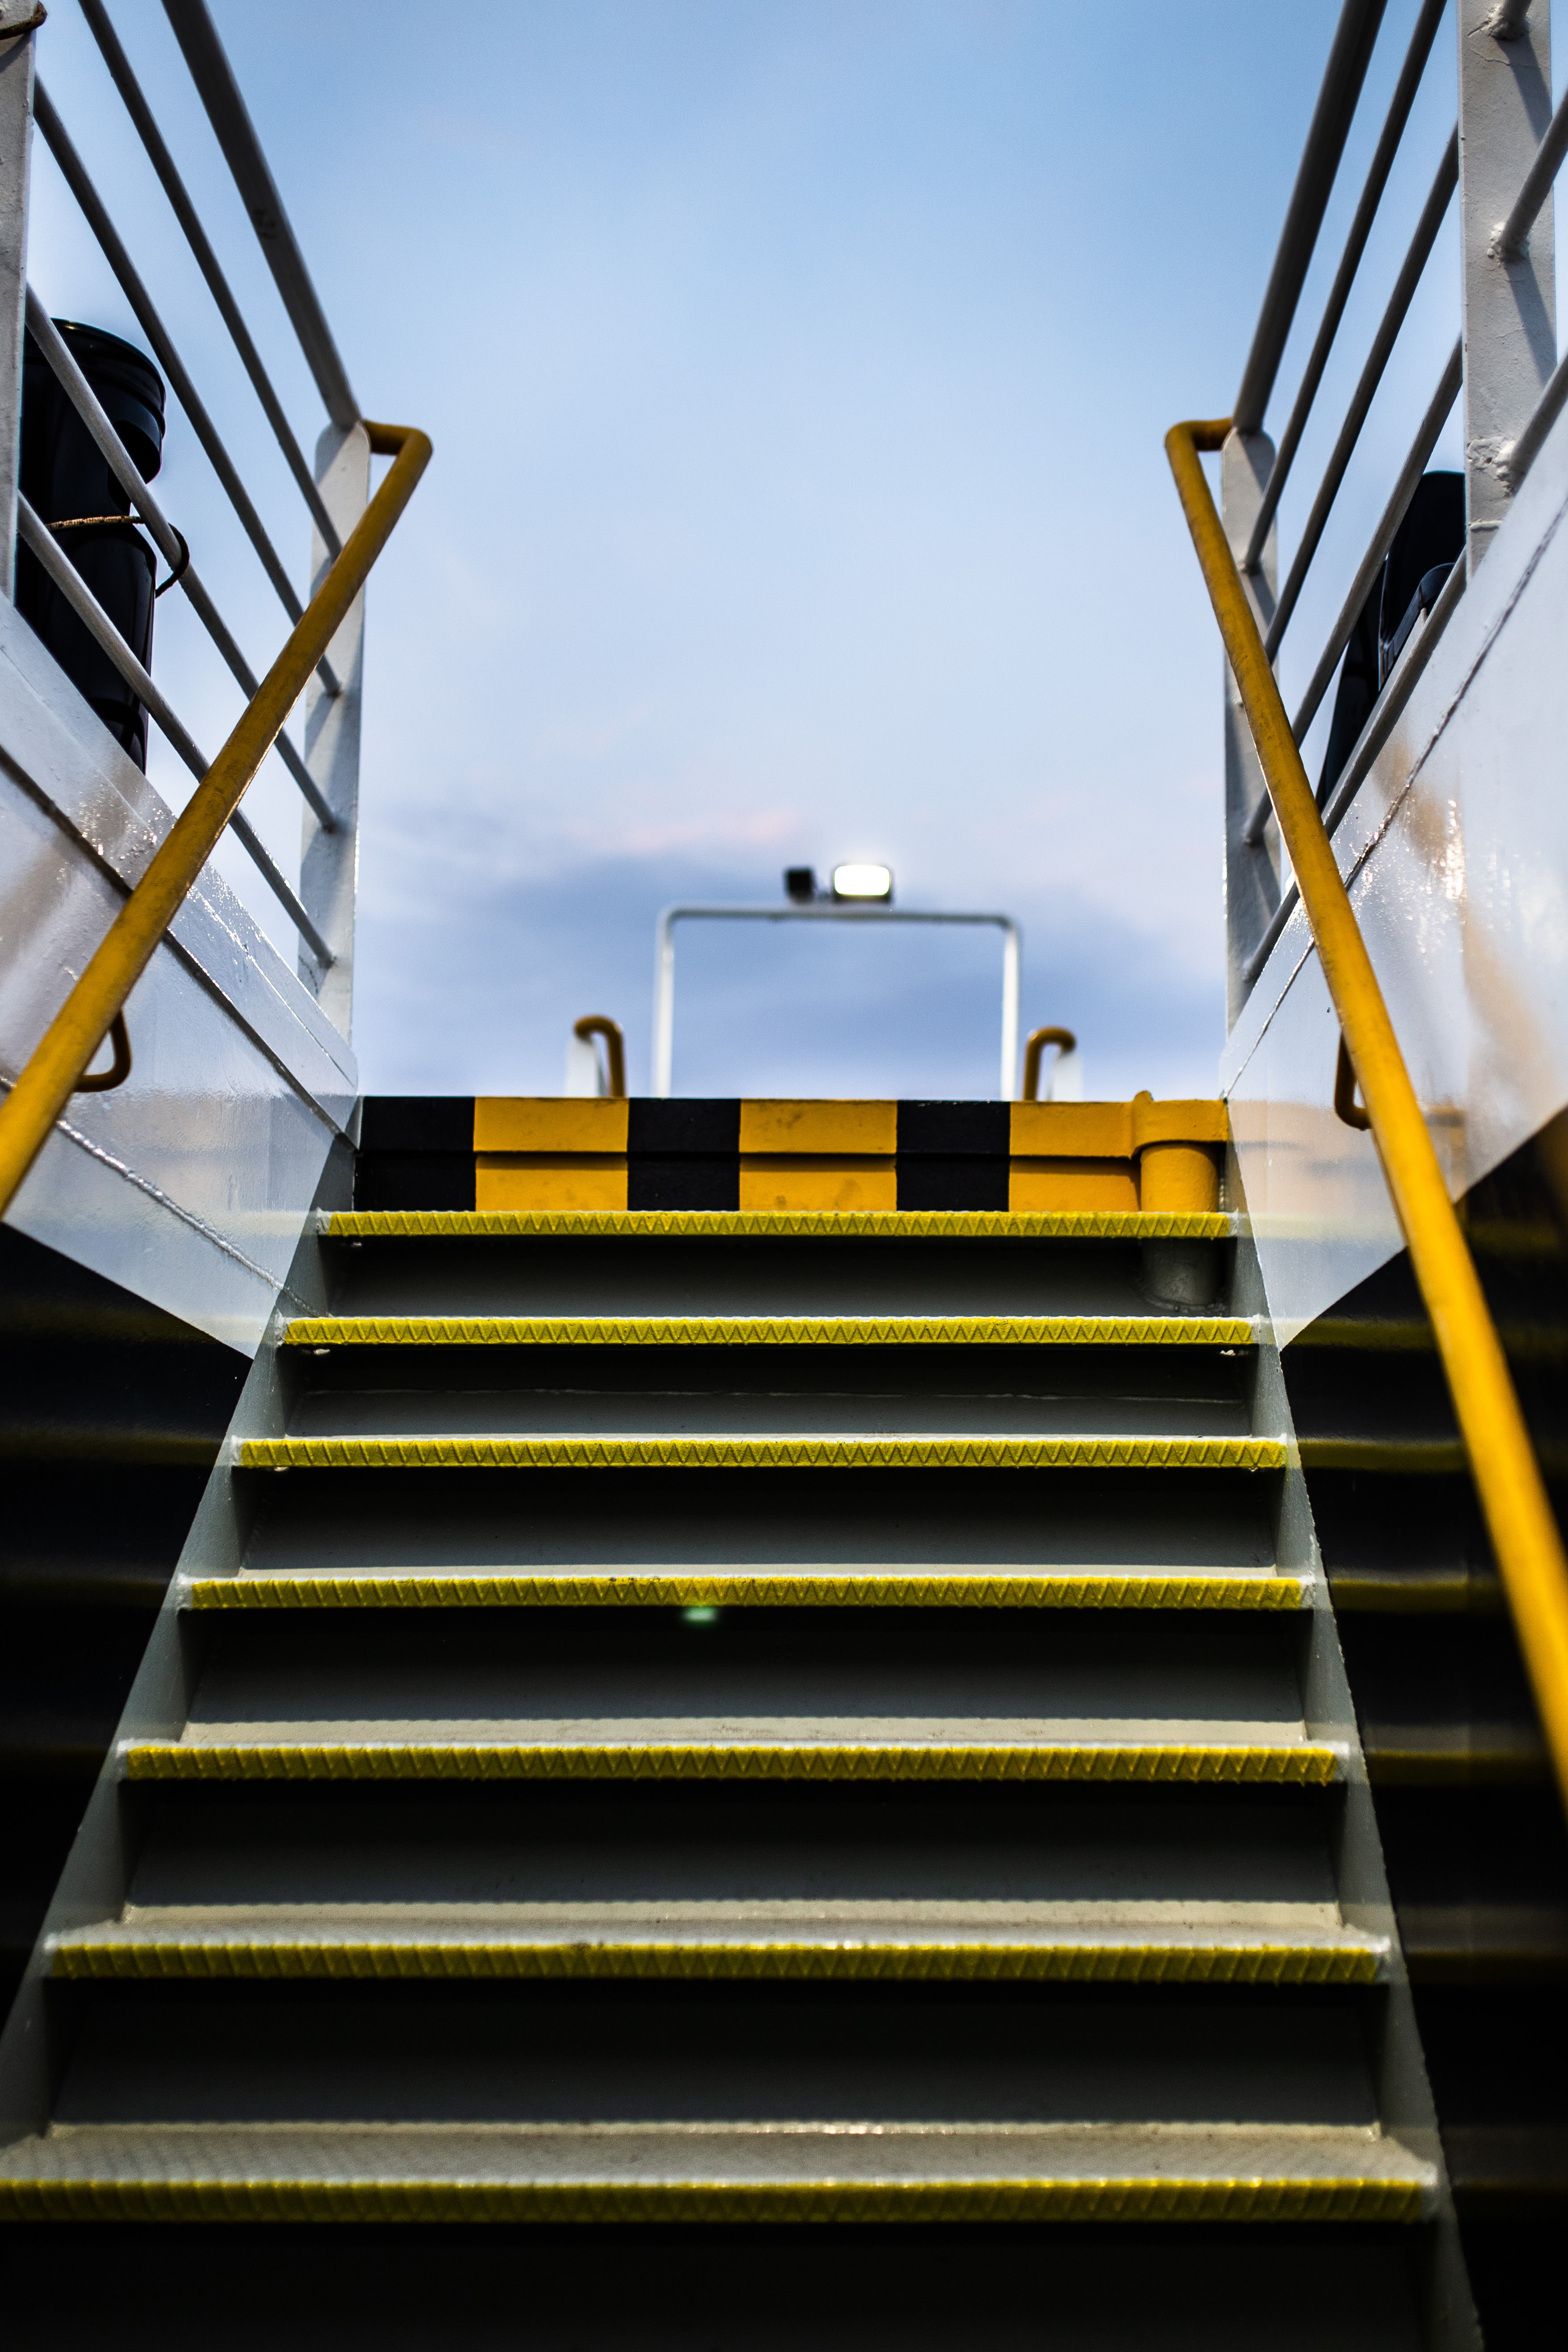upstairs: (201, 1535, 1265, 2352)
